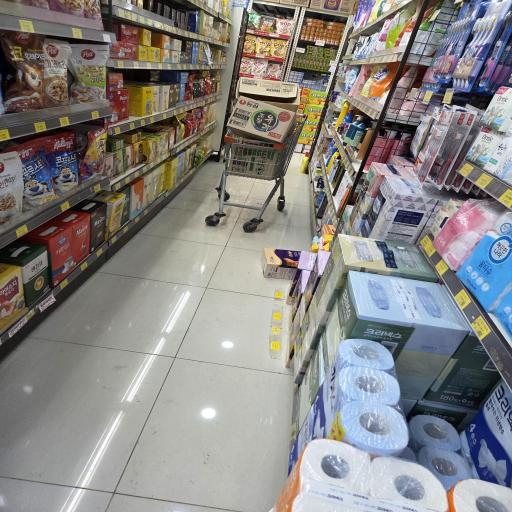fully_cart: (205, 75, 313, 233)
